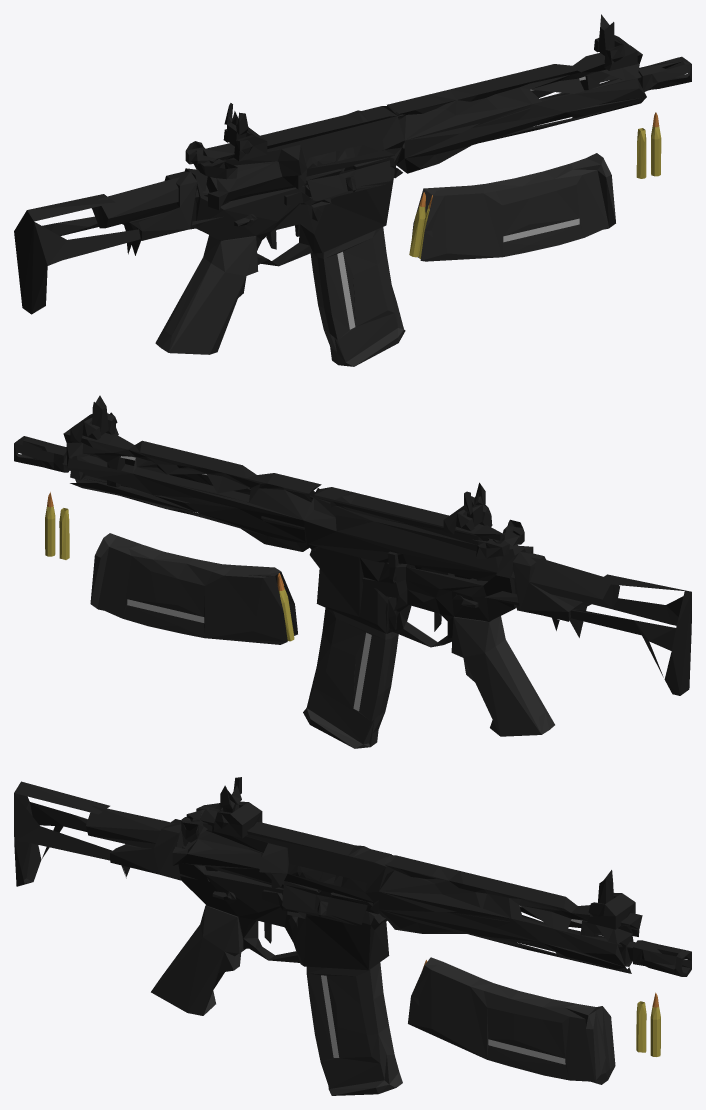
Rendered from m5scw_tp.glb.
3 renders of one model, top to bottom at view 1: azimuth 30°, elevation 25°; view 2: azimuth 150°, elevation 25°; view 3: azimuth 330°, elevation 25°, orthographic.
Parts seen in each view (by area): view 1: 55645 ar15 30rnd mag (pmag)_18, m5scw handguard_15, m5scw lower_3, m5scw upper_0, 55645 ar15 30rnd mag empty (pmag)_19, m5scw grip_4, m5scw stock_17, m5scw iron sights_20, m5scw dust cover_6, m5scw flash hider_5, m5scw charging handle_16, m5scw bolt_8 (+1 smaller); view 2: m5scw lower_3, 55645 ar15 30rnd mag (pmag)_18, m5scw handguard_15, m5scw upper_0, 55645 ar15 30rnd mag empty (pmag)_19, m5scw grip_4, m5scw stock_17, m5scw iron sights_20, m5scw 10.3in barrel _11, m5scw flash hider_5, m5scw charging handle_16, 55645 case_9; view 3: 55645 ar15 30rnd mag (pmag)_18, m5scw handguard_15, m5scw lower_3, m5scw upper_0, 55645 ar15 30rnd mag empty (pmag)_19, m5scw grip_4, m5scw stock_17, m5scw iron sights_20, m5scw dust cover_6, m5scw flash hider_5, m5scw bolt_8, m5scw 10.3in barrel _11 (+3 smaller).
Boxes of the visible parts, bbox=[...] form: 55645 ar15 30rnd mag (pmag)_18: bbox=[409, 153, 615, 261]; m5scw handguard_15: bbox=[387, 45, 646, 173]; m5scw lower_3: bbox=[92, 166, 402, 266]; m5scw upper_0: bbox=[203, 106, 404, 210]; 55645 ar15 30rnd mag empty (pmag)_19: bbox=[310, 227, 405, 366]; m5scw grip_4: bbox=[155, 235, 258, 354]; m5scw stock_17: bbox=[14, 194, 222, 314]; m5scw iron sights_20: bbox=[223, 14, 637, 161]; m5scw dust cover_6: bbox=[306, 156, 394, 201]; m5scw flash hider_5: bbox=[638, 56, 691, 91]; m5scw charging handle_16: bbox=[185, 141, 237, 179]; m5scw bolt_8: bbox=[206, 140, 384, 192]; m5scw lower_3: bbox=[309, 546, 619, 647]; 55645 ar15 30rnd mag (pmag)_18: bbox=[90, 533, 297, 644]; m5scw handguard_15: bbox=[63, 429, 321, 551]; m5scw upper_0: bbox=[303, 487, 533, 581]; 55645 ar15 30rnd mag empty (pmag)_19: bbox=[303, 588, 398, 748]; m5scw grip_4: bbox=[451, 616, 554, 736]; m5scw stock_17: bbox=[484, 574, 691, 695]; m5scw iron sights_20: bbox=[70, 395, 492, 534]; m5scw 10.3in barrel _11: bbox=[62, 454, 311, 529]; m5scw flash hider_5: bbox=[14, 436, 69, 472]; m5scw charging handle_16: bbox=[339, 506, 524, 558]; 55645 case_9: bbox=[59, 508, 69, 559]; 55645 ar15 30rnd mag (pmag)_18: bbox=[408, 957, 615, 1084]; m5scw handguard_15: bbox=[378, 855, 642, 973]; m5scw lower_3: bbox=[86, 805, 389, 970]; m5scw upper_0: bbox=[172, 808, 393, 921]; 55645 ar15 30rnd mag empty (pmag)_19: bbox=[306, 911, 402, 1095]; m5scw grip_4: bbox=[151, 905, 245, 1015]; m5scw stock_17: bbox=[14, 781, 196, 886]; m5scw iron sights_20: bbox=[213, 777, 635, 929]; m5scw dust cover_6: bbox=[282, 881, 372, 925]; m5scw flash hider_5: bbox=[633, 940, 691, 976]; m5scw bolt_8: bbox=[287, 863, 366, 892]; m5scw 10.3in barrel _11: bbox=[519, 905, 635, 965].
Bounding box in the file's own units: 6.41 × 2.58 × 0.6741.
